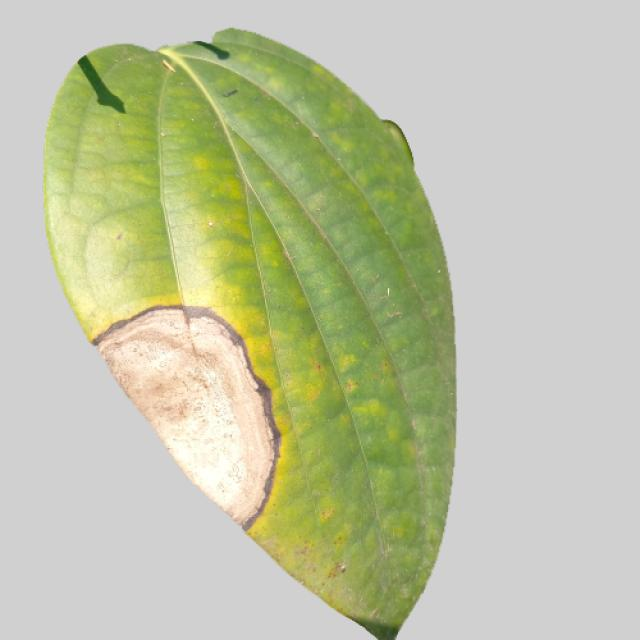leaf-blight: (18, 43, 493, 640)
